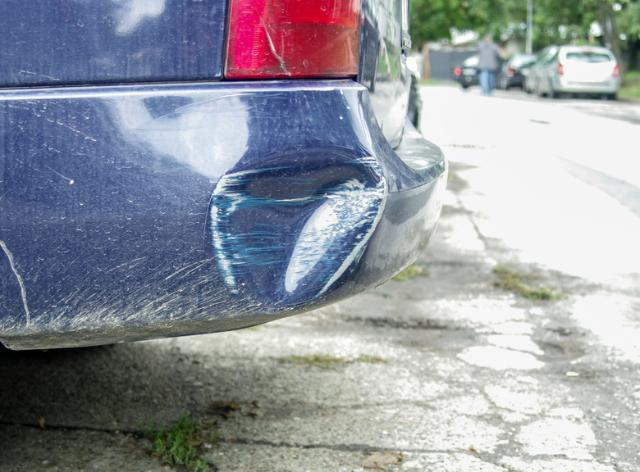Light: (196, 90, 424, 307)
